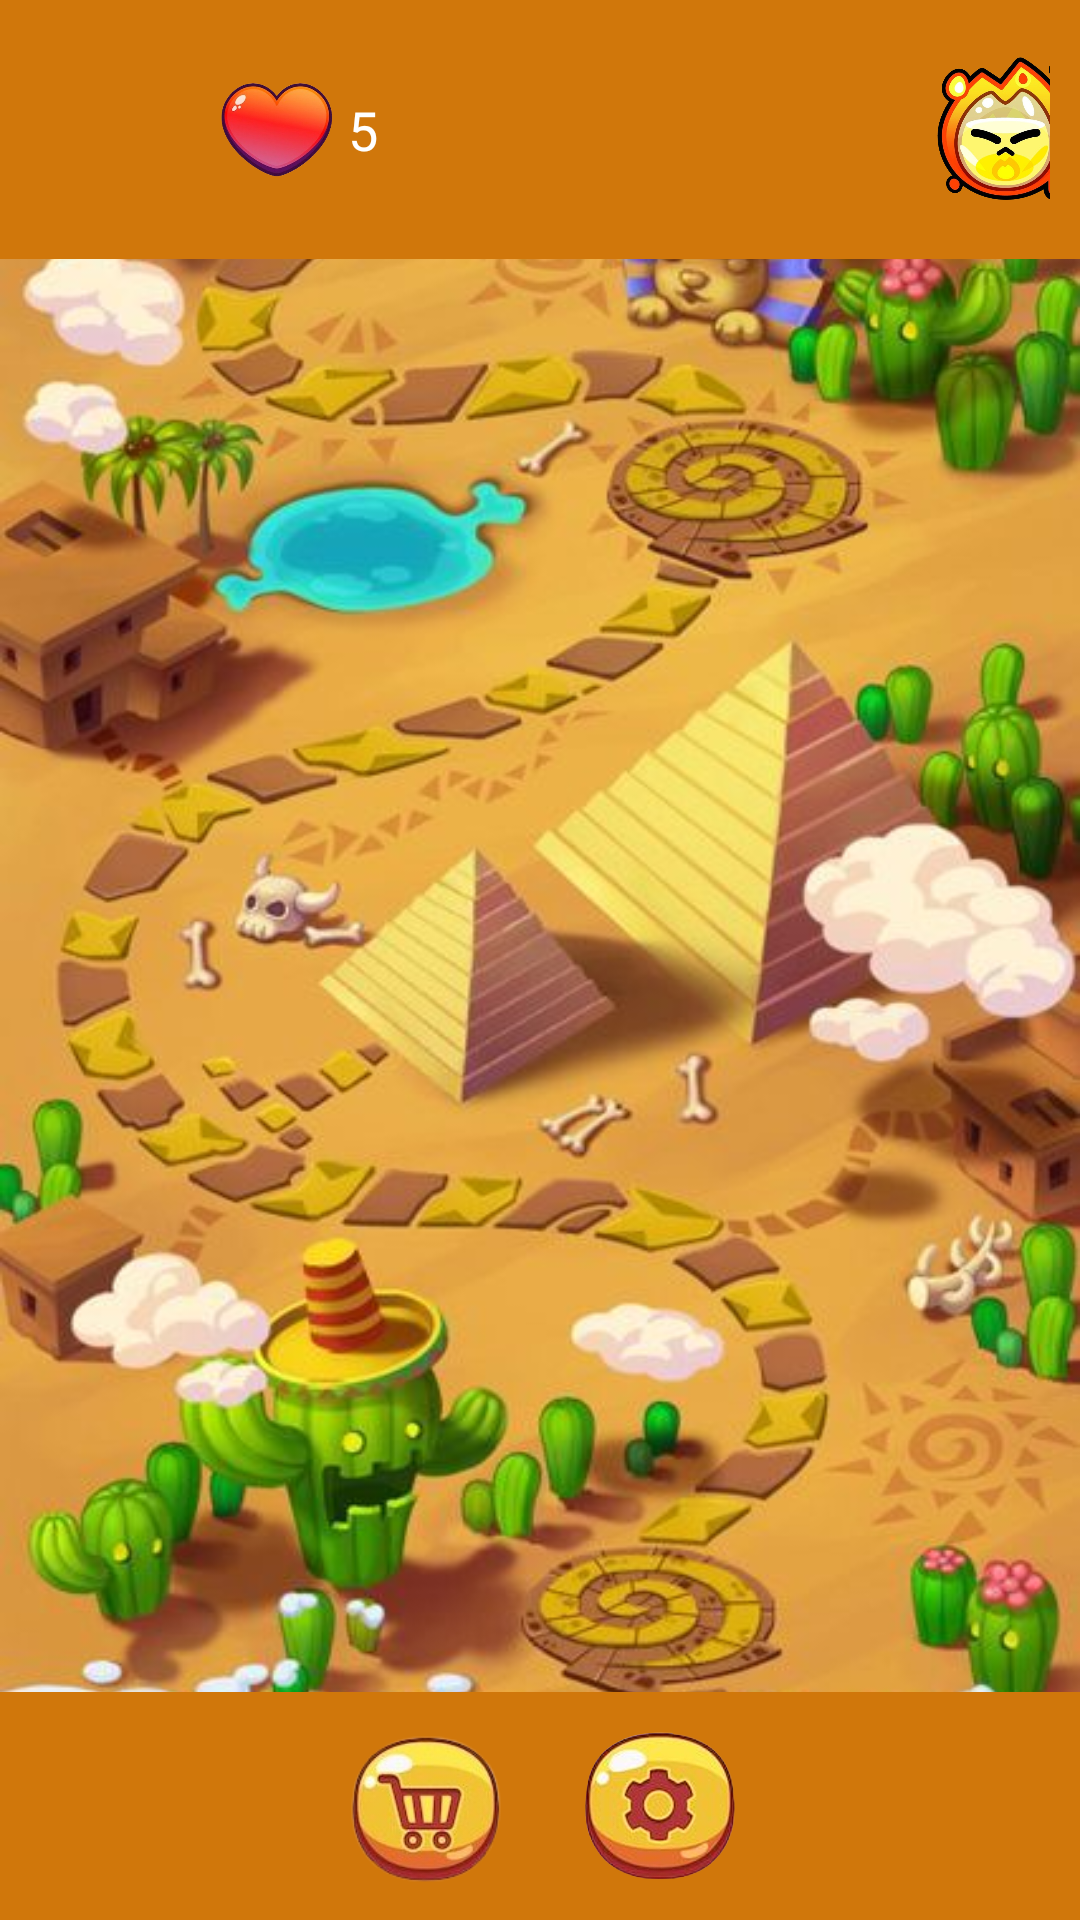

Screen size 1080×1920. Icon name, then its center in pixels as (x,y):
Cài đặt: (660,1805)
Mở cửa hàng: (426,1809)
Số tim còn lại: (276,129)
